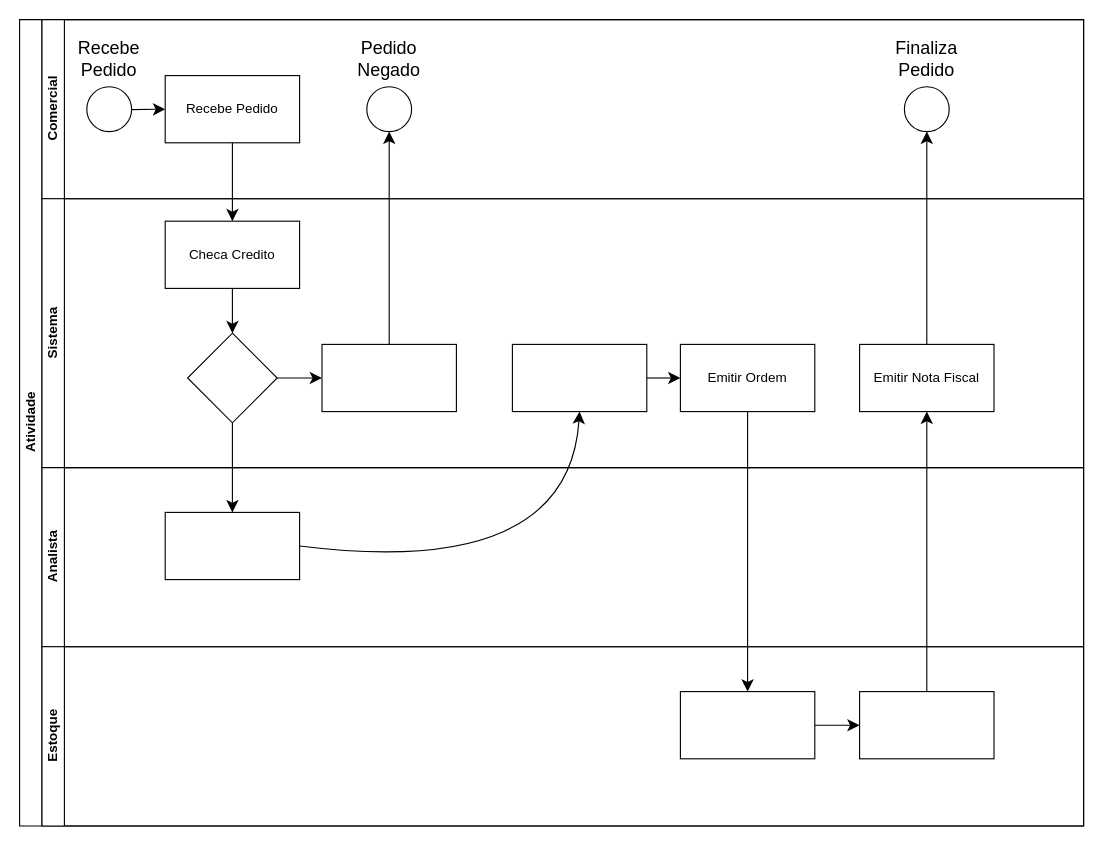
The diagram is 1103 pixels wide and 846 high, and some of its shapes have lost their labels. The shapes that lost their labels are listed below. From the top down, each one's centre as x and y in pixels, then its label:
At point (388, 377): "Credito Inválido".
At point (579, 377): "Verificar Estoque".
At point (232, 545): "Autorizar Liberação".
At point (747, 724): "Separar Produto".
At point (926, 724): "Libera Pedido".
